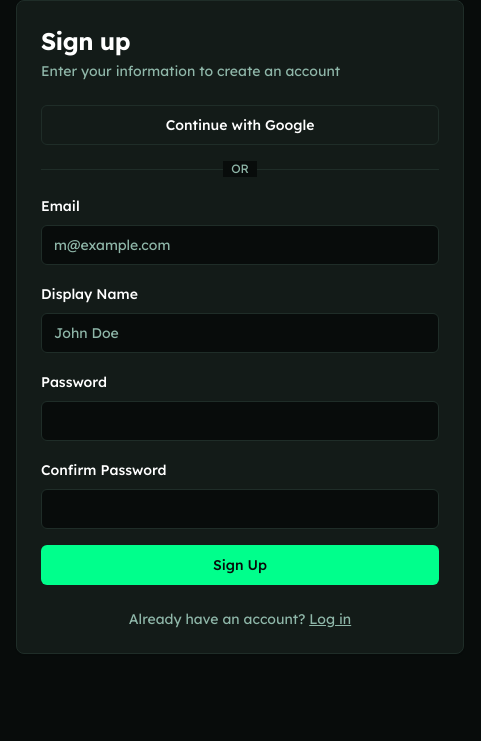
Test: SignUpForm › should handle signup errors
The image size is (481, 741).
In the field labelled "Email": (240, 245) [41,225,439,265], type "test@example.com"
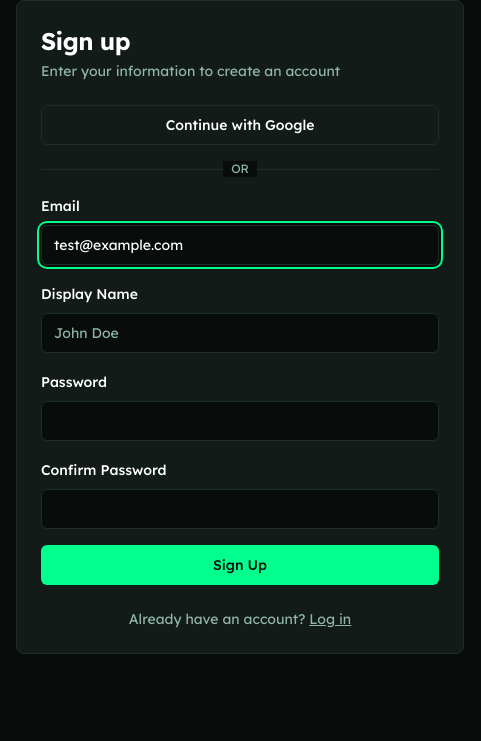
In the field labelled "Display Name": (240, 333) [41,313,439,353], type "Test User"
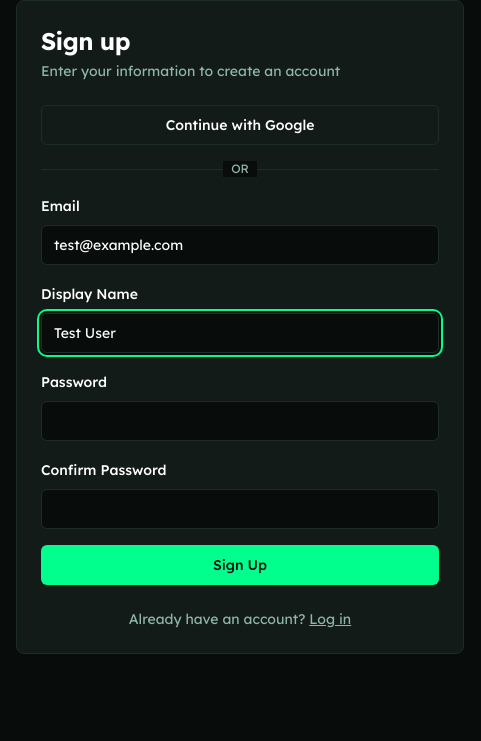
In the password field labelled "Password": (240, 421) [41,401,439,441], type "password123"
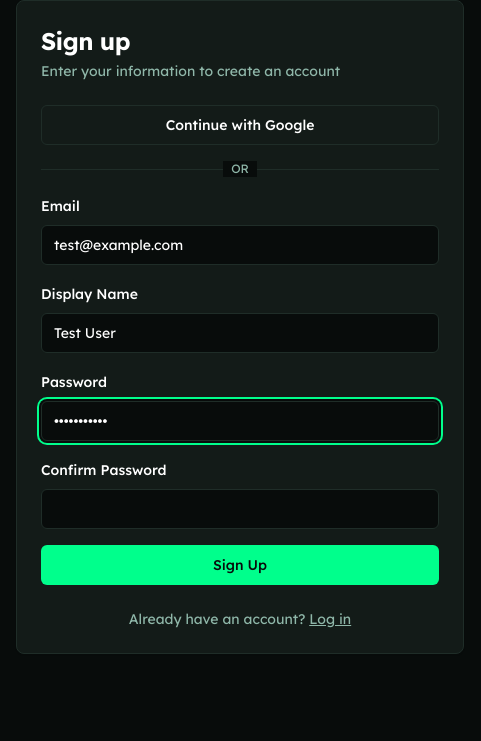
In the password field labelled "Confirm Password": (240, 509) [41,489,439,529], type "password123"
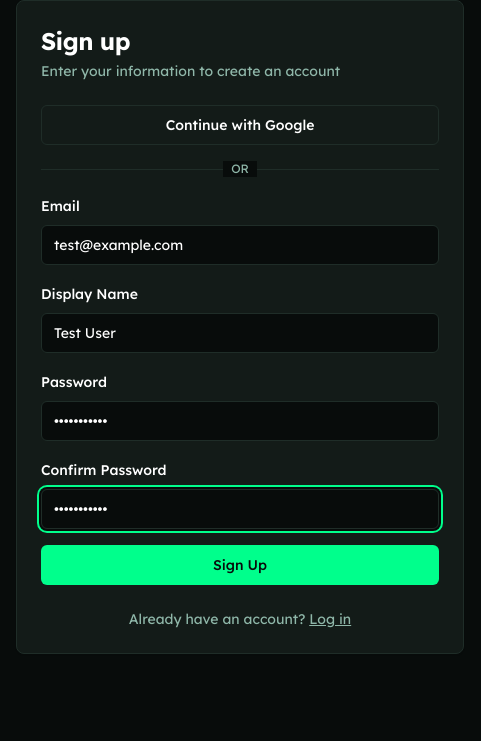
Click the button "Sign Up": (240, 565) [41,545,439,585]
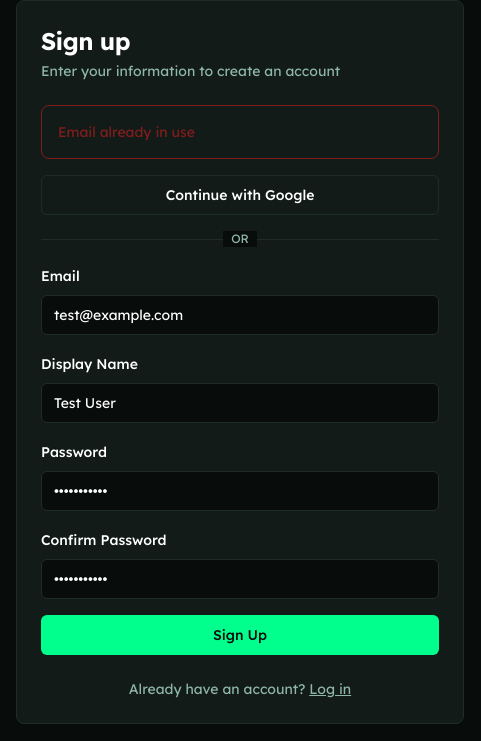
Check: the text "Email already in use" is shown, box [58,123,195,141]
